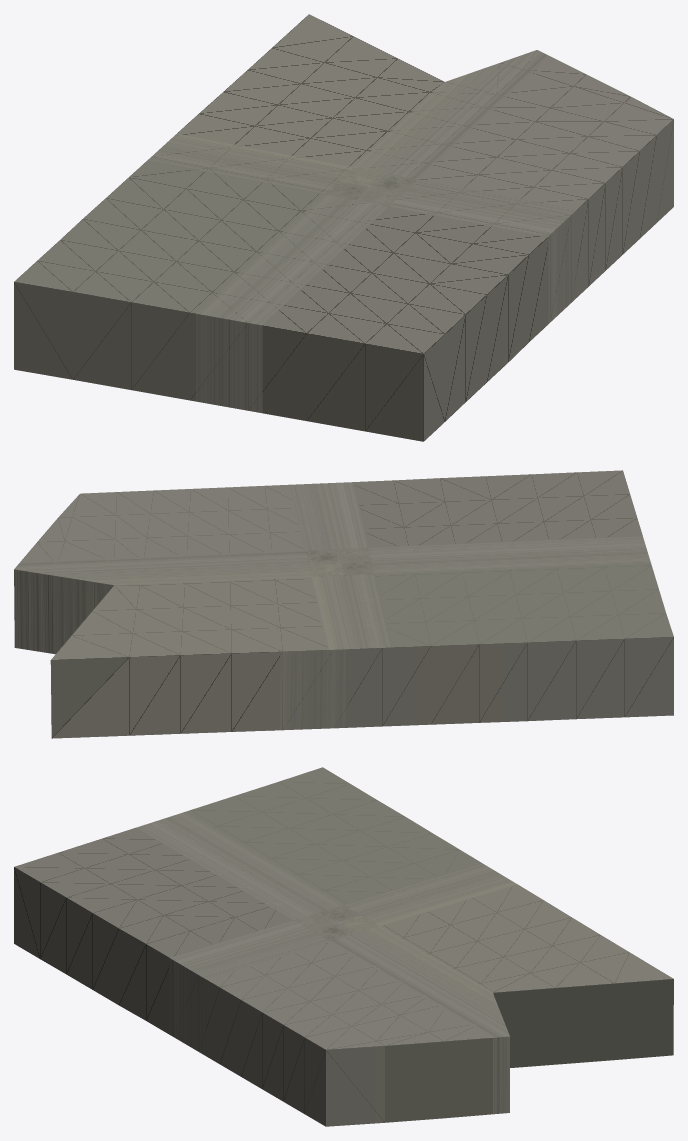
Rendered from objects_un_t05tile02.gltf.
The picture shows the model from 3 angles, top to bottom: view 1: azimuth 30°, elevation 25°; view 2: azimuth 150°, elevation 25°; view 3: azimuth 270°, elevation 25°; orthographic projection. The views are drawn at different scales.
Visible parts, largest first — view 1: objects_un_t05tile02; view 2: objects_un_t05tile02; view 3: objects_un_t05tile02.
Boxes of the visible parts, x1=… form: objects_un_t05tile02: x1=14, y1=14, x2=673, y2=441; objects_un_t05tile02: x1=14, y1=470, x2=673, y2=738; objects_un_t05tile02: x1=14, y1=767, x2=673, y2=1126.
Size of what is drawn, in the model's own units: 78.93 by 10 by 77.87.
1 material, 1 textured.
